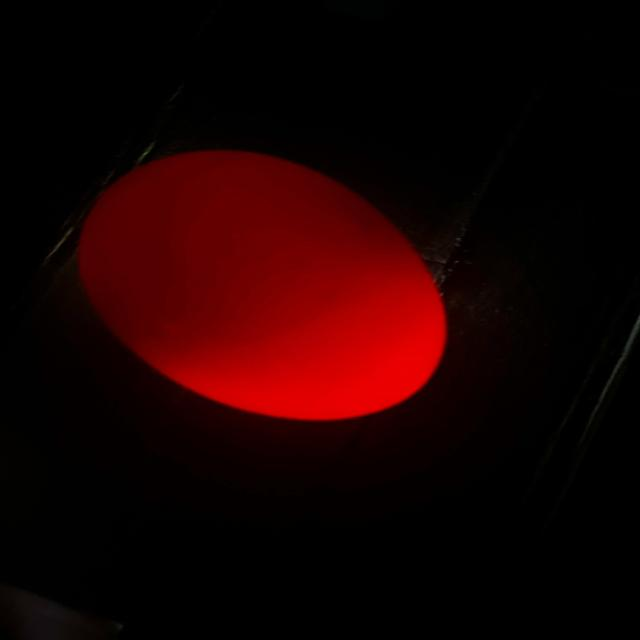fertile: (78, 150, 447, 420)
